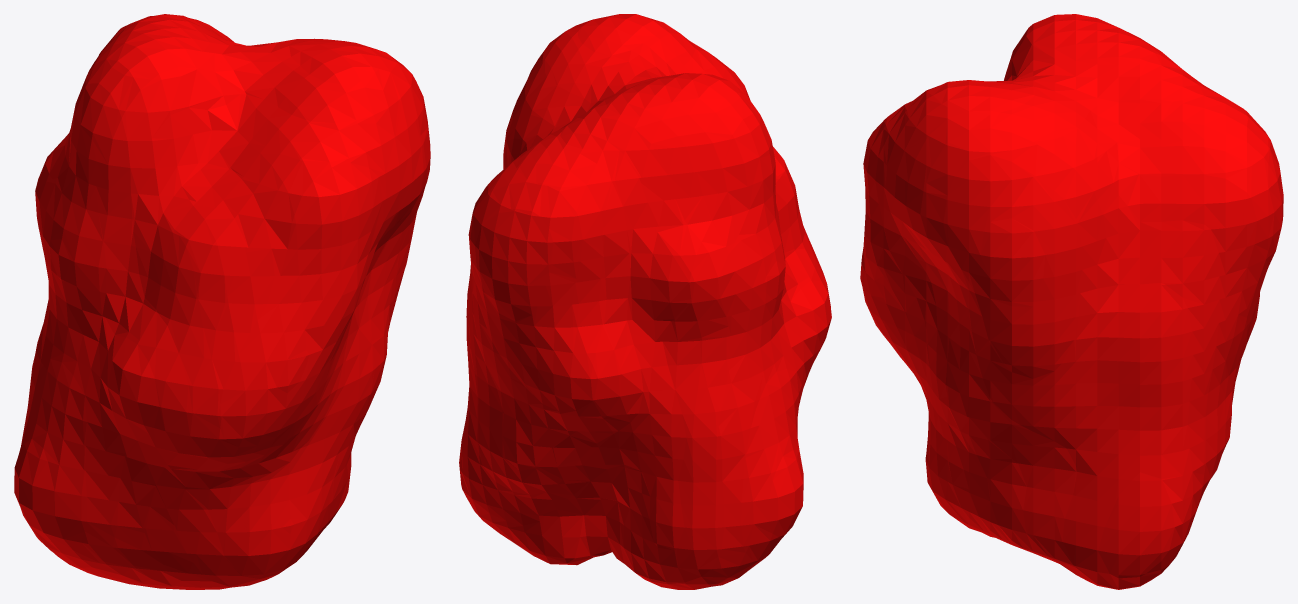
File: iraP_coarse.dae
The picture shows the model from 3 angles, left to right: view 1: azimuth 30°, elevation 25°; view 2: azimuth 150°, elevation 25°; view 3: azimuth 270°, elevation 25°; orthographic projection. The views are drawn at different scales.
Parts seen in each view (by area): view 1: iraP; view 2: iraP; view 3: iraP.
Part boxes in pixels (x1,y1,x2,y2): iraP: (14,14,430,589); iraP: (459,14,831,589); iraP: (860,14,1283,589).
Size of the model in its own units: 28.59 by 41.52 by 31.5.
